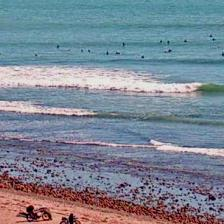surfer: (64, 48, 71, 52), (115, 52, 120, 55), (221, 51, 223, 57), (212, 38, 216, 41), (141, 55, 144, 59), (122, 42, 125, 46), (88, 48, 91, 52), (56, 45, 60, 48), (184, 39, 187, 42), (160, 40, 163, 43), (209, 35, 213, 37), (168, 50, 172, 52), (107, 51, 109, 55), (167, 40, 169, 43), (35, 54, 38, 56), (81, 50, 83, 52)
